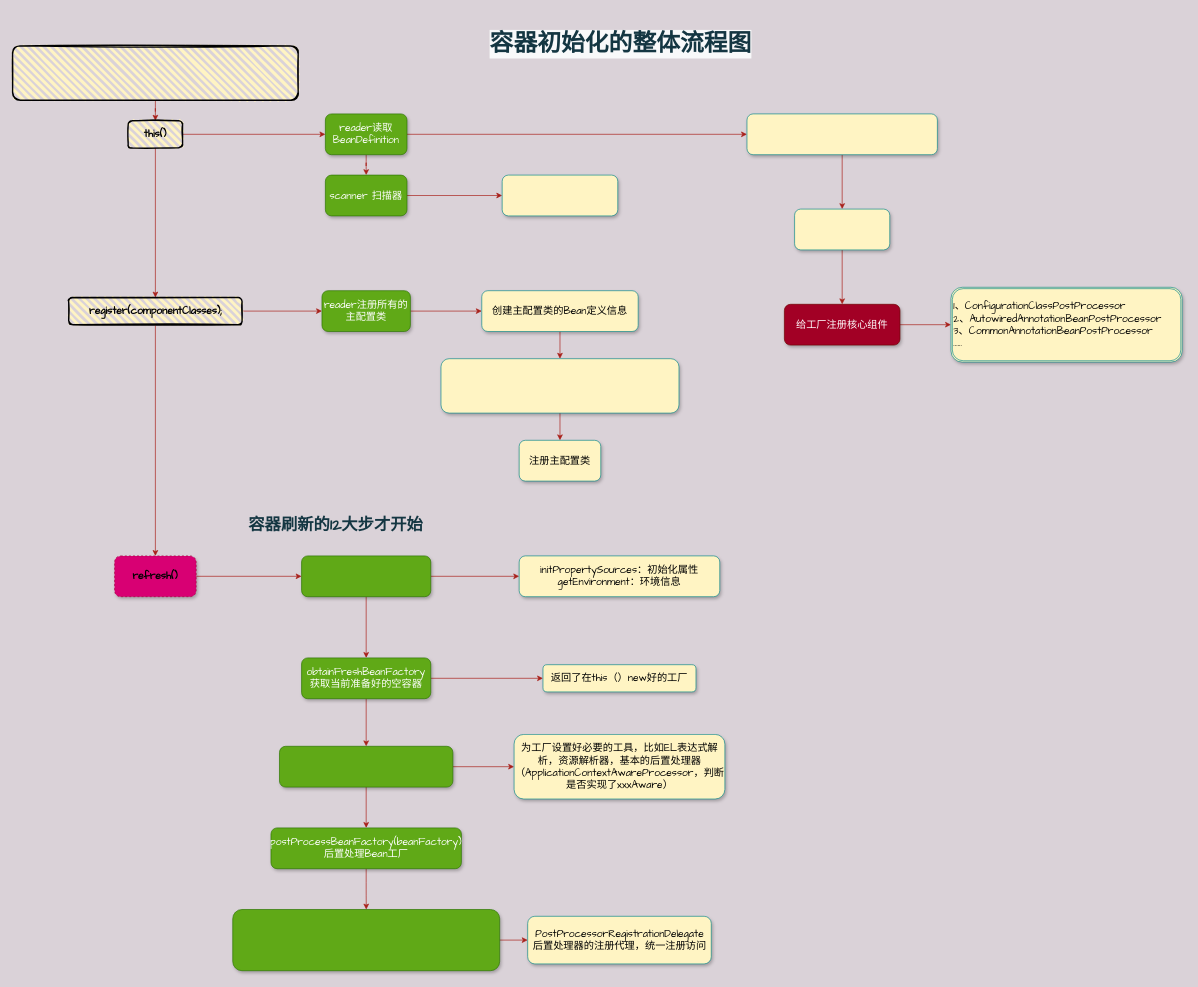
Image size: 1198x987. Some labels were removed from this diagram. The centre of each missing label's shape, as x and y in pixels:
invokeBeanFactoryPostProcessors(beanFactory) 执行工厂的后置增强: the point at 366,940
new AnnotationConfigApplicationContext(MainConfig.class): the point at 155,73
prepareBeanFactory(beanFactory) 预准备工厂信息: the point at 366,767
prepareRefresh 准备上下文环境: the point at 366,576
processCommonDefinitionAnnotations 完善主配置类的注册信息: the point at 560,386
registerAnnotationConfigProcessors注册注解配置处理器: the point at 842,135
准备一些环境变量信息: the point at 560,196
工厂准备基础组件: the point at 842,230
